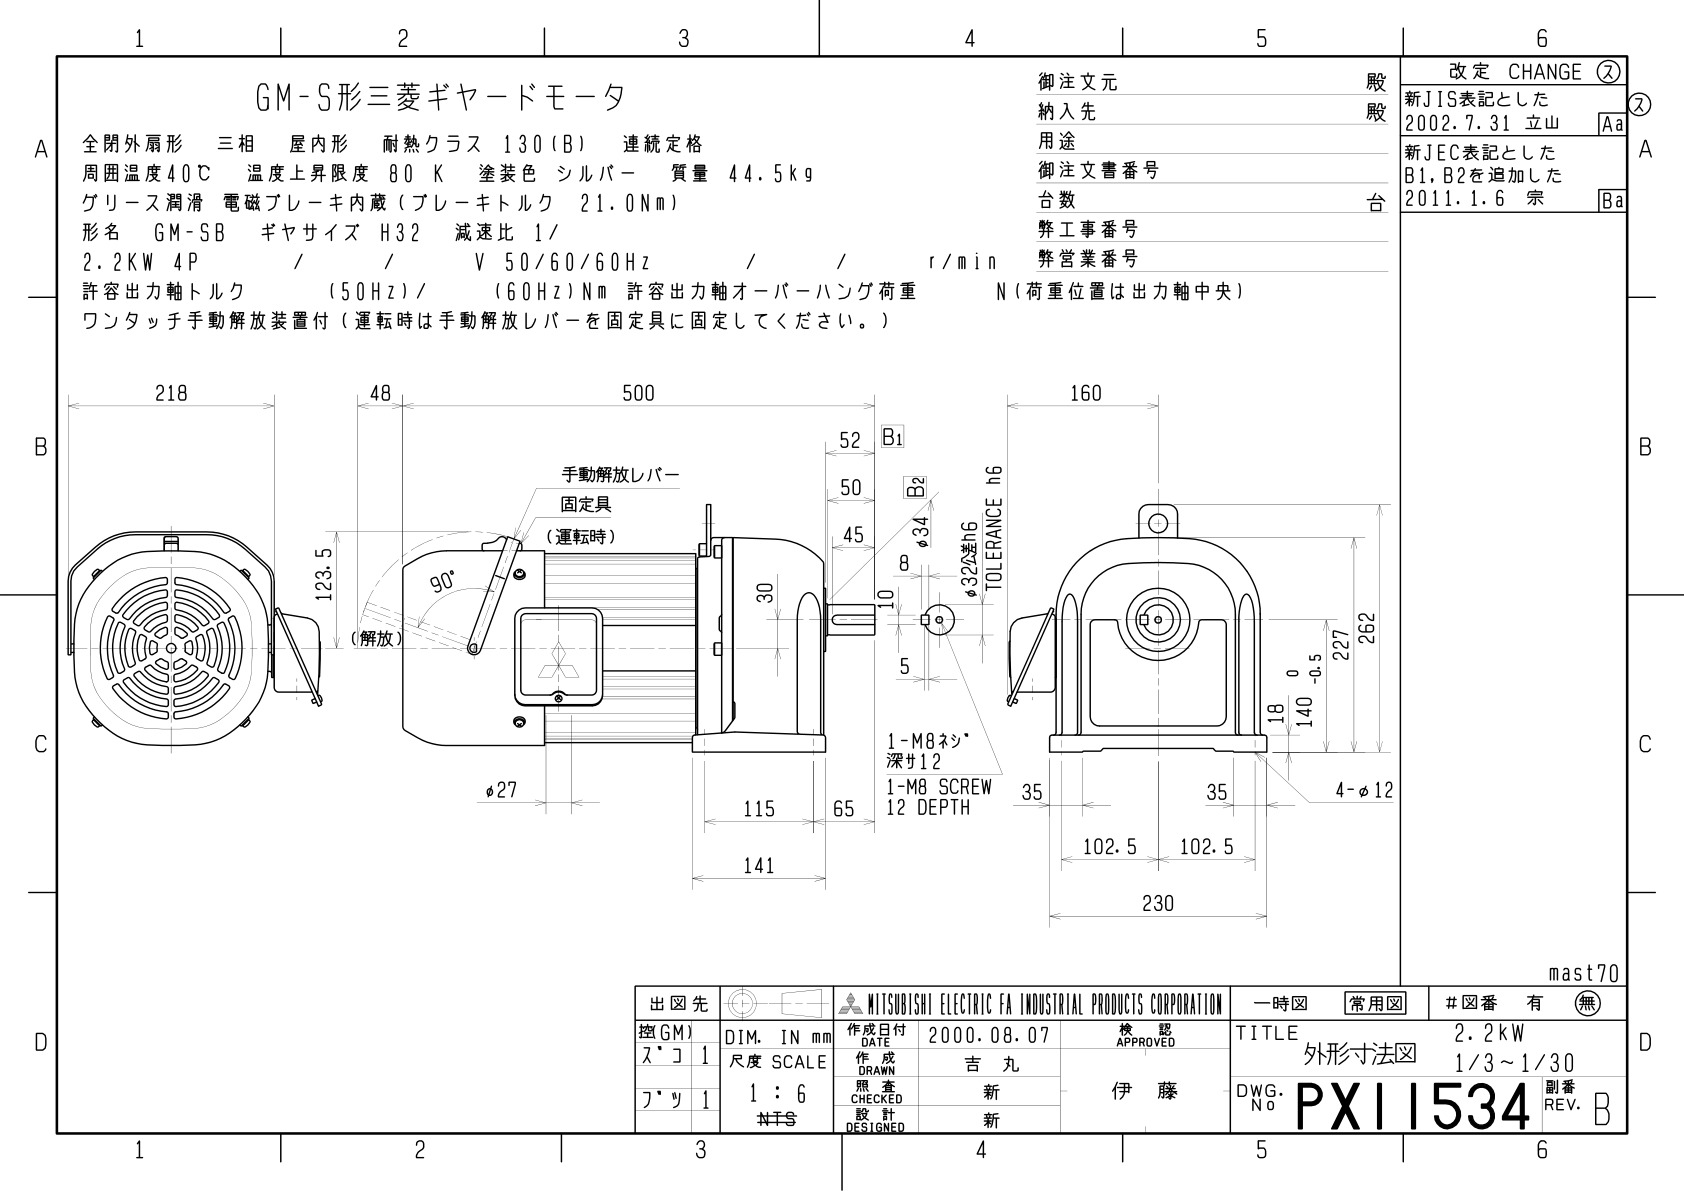GM_S_手動ブレーキ＿三相_脚: (63, 367, 1397, 944)
